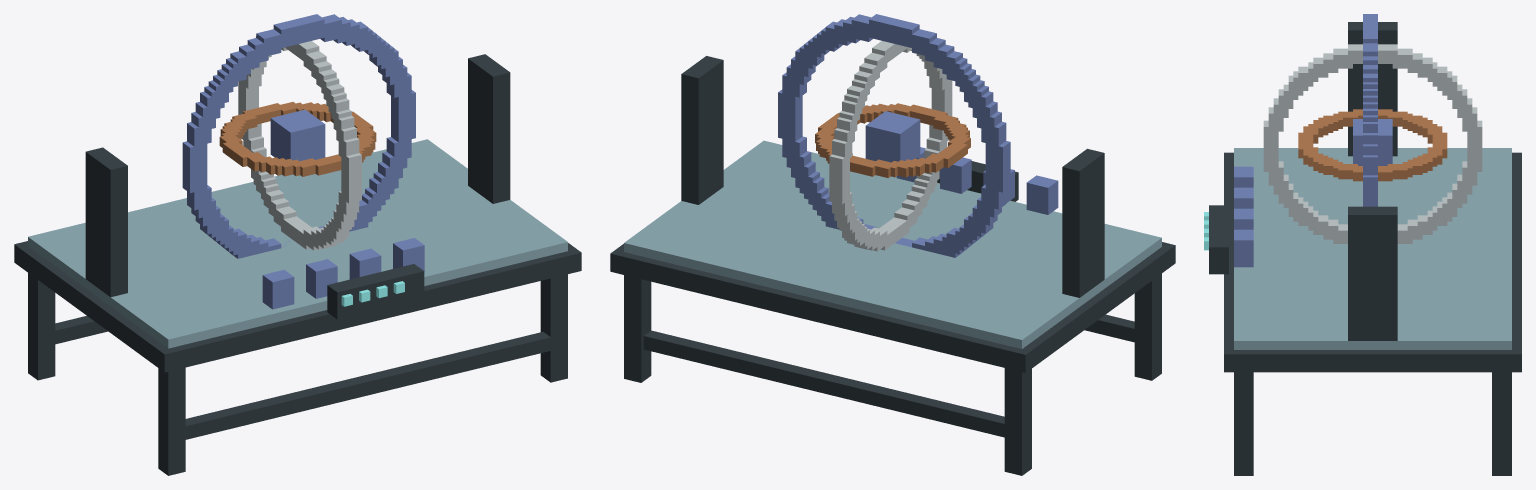
The model's file is physics_station_t9.glb.
The picture shows the model from 3 angles, left to right: view 1: azimuth 30°, elevation 25°; view 2: azimuth 150°, elevation 25°; view 3: azimuth 270°, elevation 25°; orthographic projection.
Visible parts, largest first — view 1: physics_station_t9/work_surface, physics_station_t9/field_cage, physics_station_t9/frame; view 2: physics_station_t9/work_surface, physics_station_t9/frame, physics_station_t9/field_cage; view 3: physics_station_t9/work_surface, physics_station_t9/field_cage, physics_station_t9/frame.
Part boxes in pixels (<box>): physics_station_t9/work_surface: <box>28,54,567,348</box>; physics_station_t9/field_cage: <box>182,14,415,258</box>; physics_station_t9/frame: <box>14,241,581,475</box>; physics_station_t9/work_surface: <box>624,56,1161,348</box>; physics_station_t9/frame: <box>610,242,1175,475</box>; physics_station_t9/field_cage: <box>778,14,1010,257</box>; physics_station_t9/work_surface: <box>1204,22,1511,349</box>; physics_station_t9/field_cage: <box>1263,14,1482,243</box>; physics_station_t9/frame: <box>1224,152,1521,475</box>.
Size of the model in its own units: 3 by 2.44 by 2.
